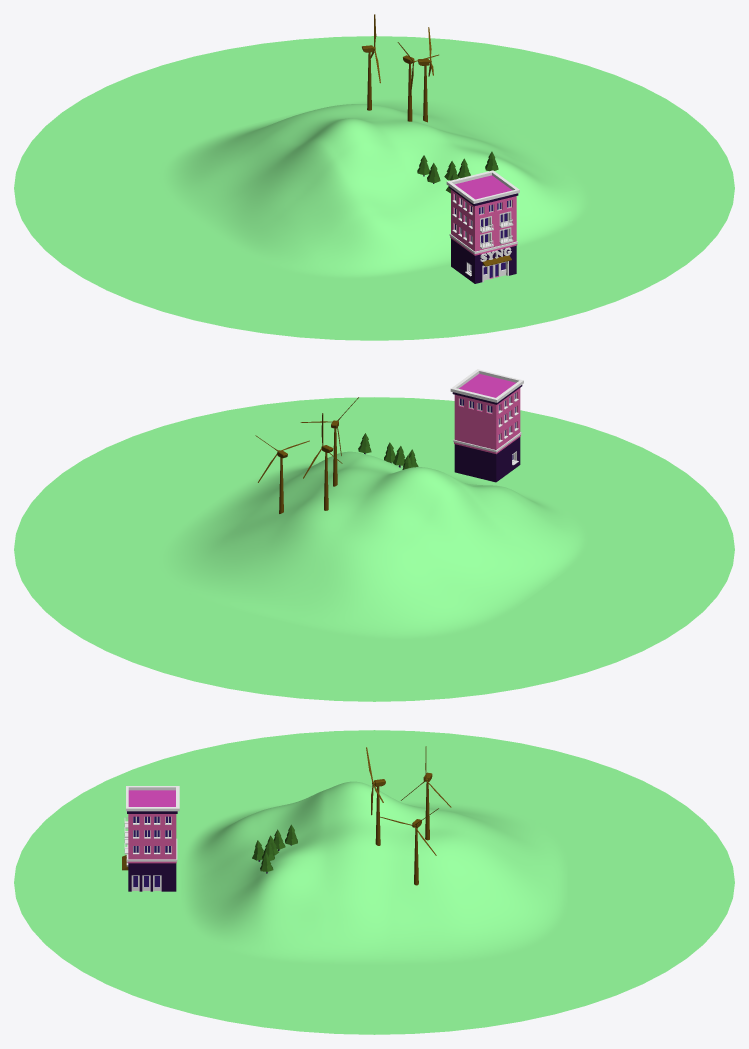
File: city13.glb
3 renders of one model, top to bottom at view 1: azimuth 30°, elevation 25°; view 2: azimuth 150°, elevation 25°; view 3: azimuth 270°, elevation 25°, orthographic.
Parts seen in each view (by area): view 1: floor, Landscape010, Object017, Object016, Object018, Object019001, Object019; view 2: floor, Landscape010, Object016, Object018, Object017, Object019001; view 3: floor, Landscape010, Object016, Object017, Object018, Object019001, Object019.
Boxes of the visible parts, left/top/right/bottom form: floor: left=14, top=36, right=734, bottom=340; Landscape010: left=112, top=77, right=638, bottom=299; Object017: left=446, top=170, right=519, bottom=282; Object016: left=450, top=189, right=517, bottom=278; Object018: left=449, top=186, right=518, bottom=283; Object019001: left=455, top=175, right=512, bottom=199; Object019: left=455, top=194, right=510, bottom=277; floor: left=14, top=397, right=734, bottom=701; Landscape010: left=110, top=438, right=636, bottom=660; Object016: left=454, top=388, right=520, bottom=454; Object018: left=452, top=385, right=522, bottom=482; Object017: left=450, top=369, right=523, bottom=465; Object019001: left=459, top=373, right=516, bottom=397; floor: left=14, top=730, right=734, bottom=1034; Landscape010: left=181, top=781, right=567, bottom=964; Object016: left=127, top=814, right=176, bottom=863; Object017: left=124, top=786, right=179, bottom=891; Object018: left=127, top=811, right=177, bottom=891; Object019001: left=128, top=790, right=175, bottom=806; Object019: left=133, top=816, right=170, bottom=887.
Bounding box in the file's own units: 59.21 × 13.58 × 59.21.
